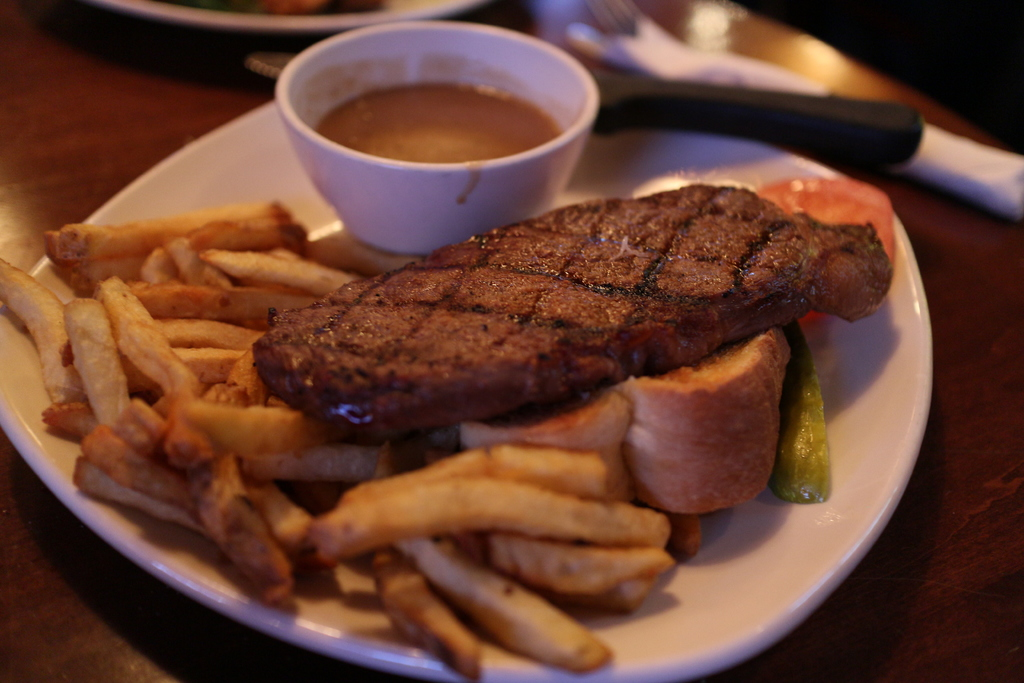French fries: (0, 184, 707, 682)
